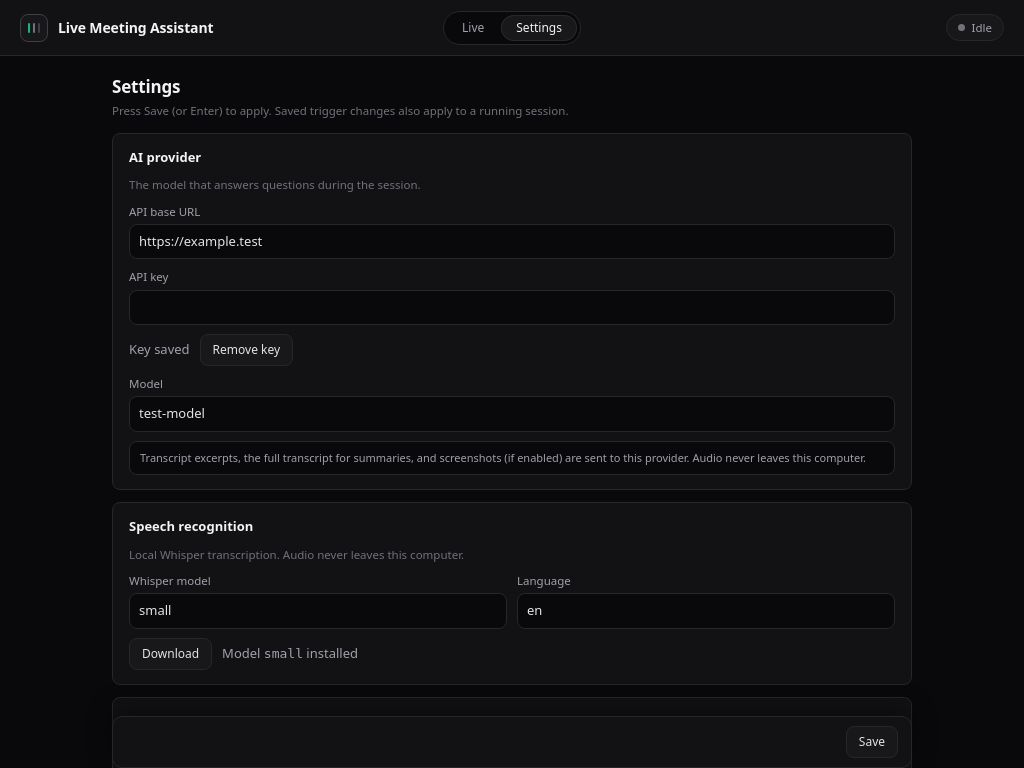
Test case: editing_shows_unsaved_and_saving_shows_saved
Check: the text "Key saved" is shown, box [129,340,190,360]
Check: the text "Unsaved changes — press Save (or Enter)" is not shown
Replace the text in the field labelled "Model" with "edited-model" at (512, 414), box [129,396,895,432]
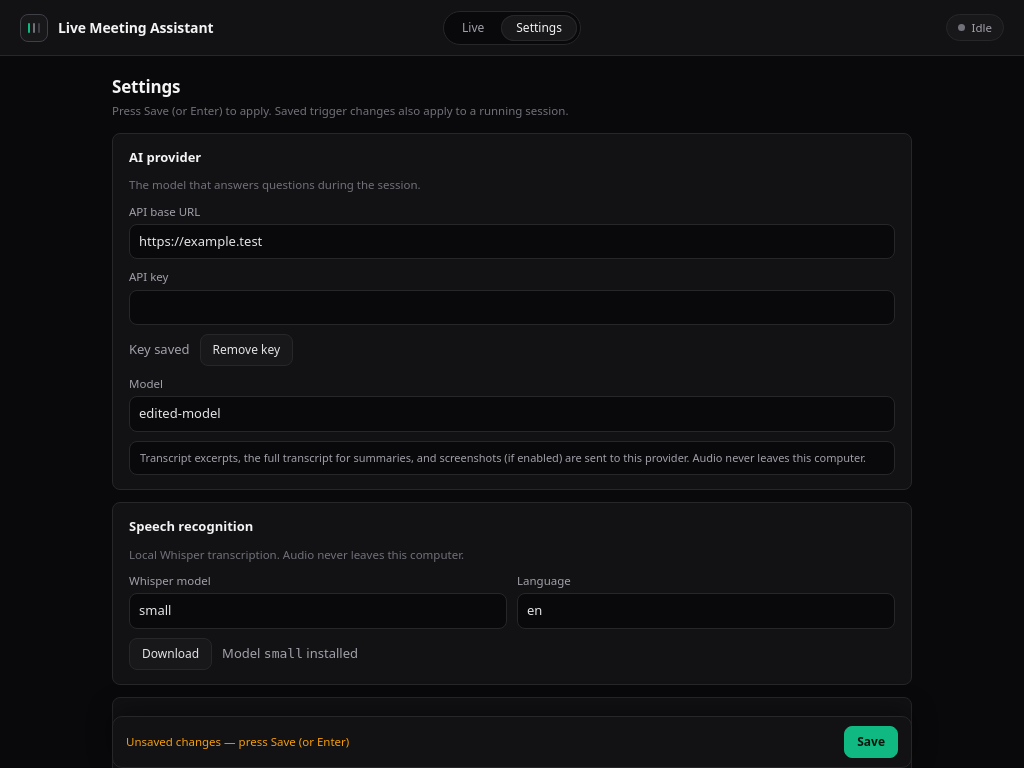
Check: the text "Unsaved changes — press Save (or Enter)" is shown, box [126,734,349,749]
Click the button "Save" at (871, 742), box [844,726,898,758]
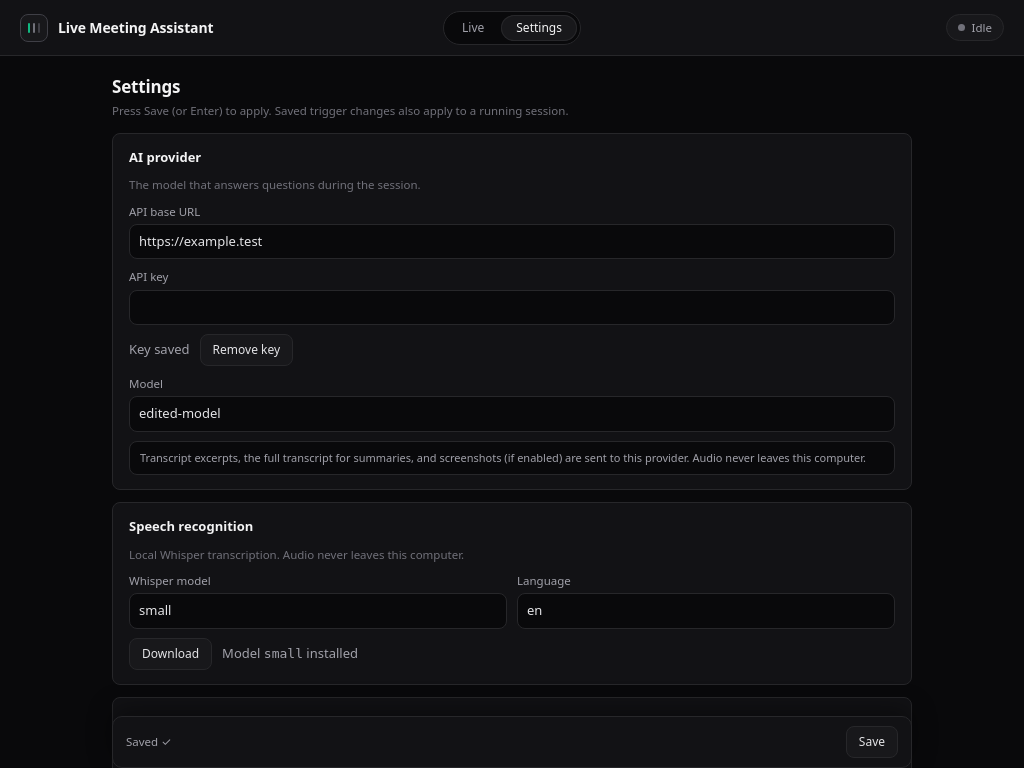
Check: the text "Saved ✓" is shown, box [126,734,171,749]
Check: the text "Unsaved changes — press Save (or Enter)" is gone
